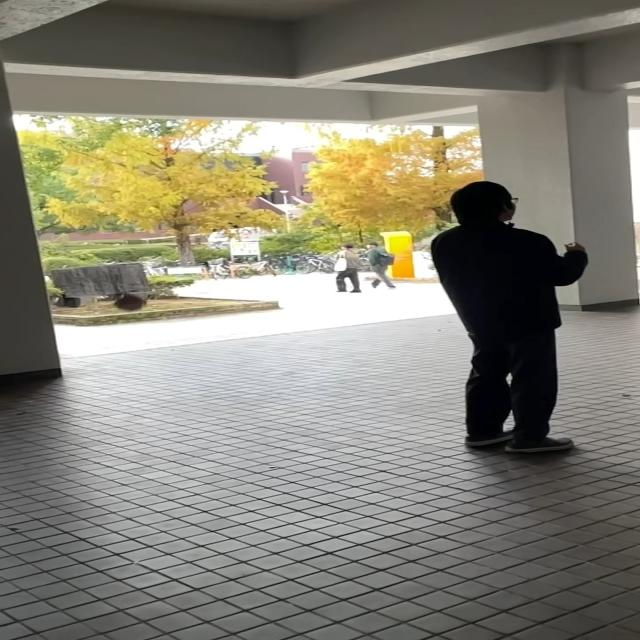paper: (113, 294, 144, 310)
